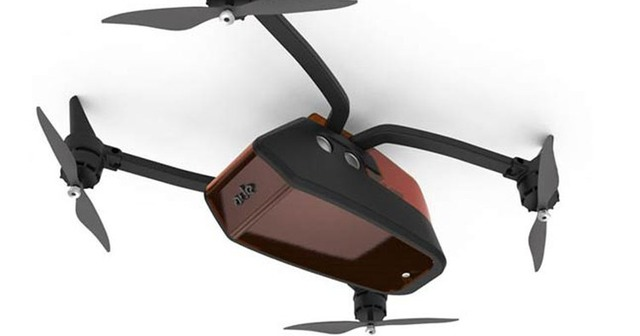drone: (35, 4, 558, 335)
